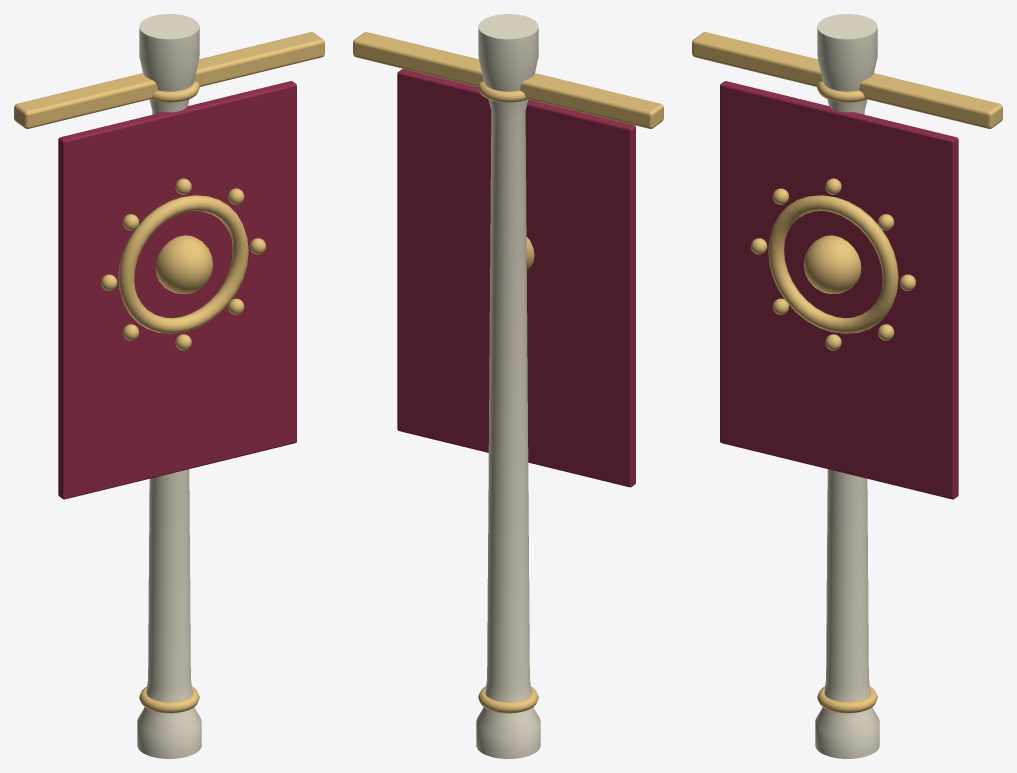
The model's file is royal-court-and-throne-palace-heraldic-standard-75acae09__29390.glb.
3 views of the same model, side by side, from view 1: azimuth 30°, elevation 25°; view 2: azimuth 150°, elevation 25°; view 3: azimuth 330°, elevation 25° (orthographic).
Visible parts, largest first — view 1: heraldic-standard; view 2: heraldic-standard; view 3: heraldic-standard.
Boxes of the visible parts, bbox=[...] form: heraldic-standard: bbox=[14, 14, 324, 758]; heraldic-standard: bbox=[353, 14, 663, 758]; heraldic-standard: bbox=[692, 14, 1002, 758].
Size of the model in its own units: 1.05 by 2.4 by 0.2725.
